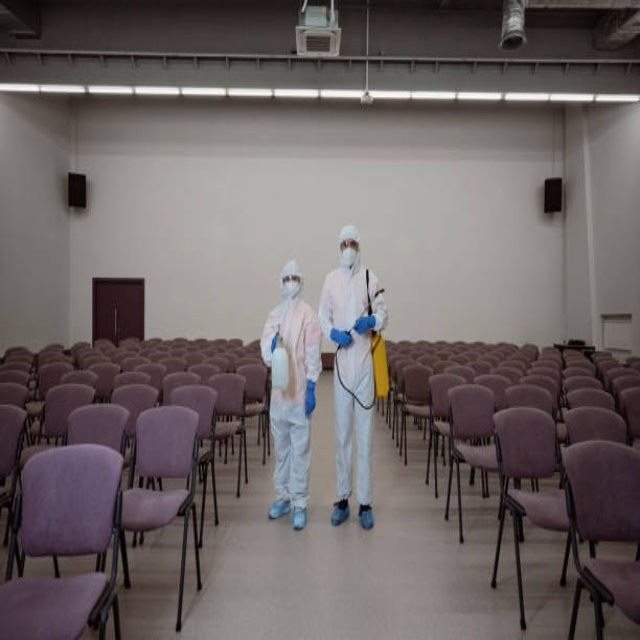Gafas: (341, 240, 358, 250), (283, 275, 300, 284)
Guantes: (330, 328, 352, 348), (354, 315, 376, 334), (305, 381, 316, 418), (271, 331, 279, 353)
Mascara: (340, 247, 357, 269), (281, 281, 300, 300)
